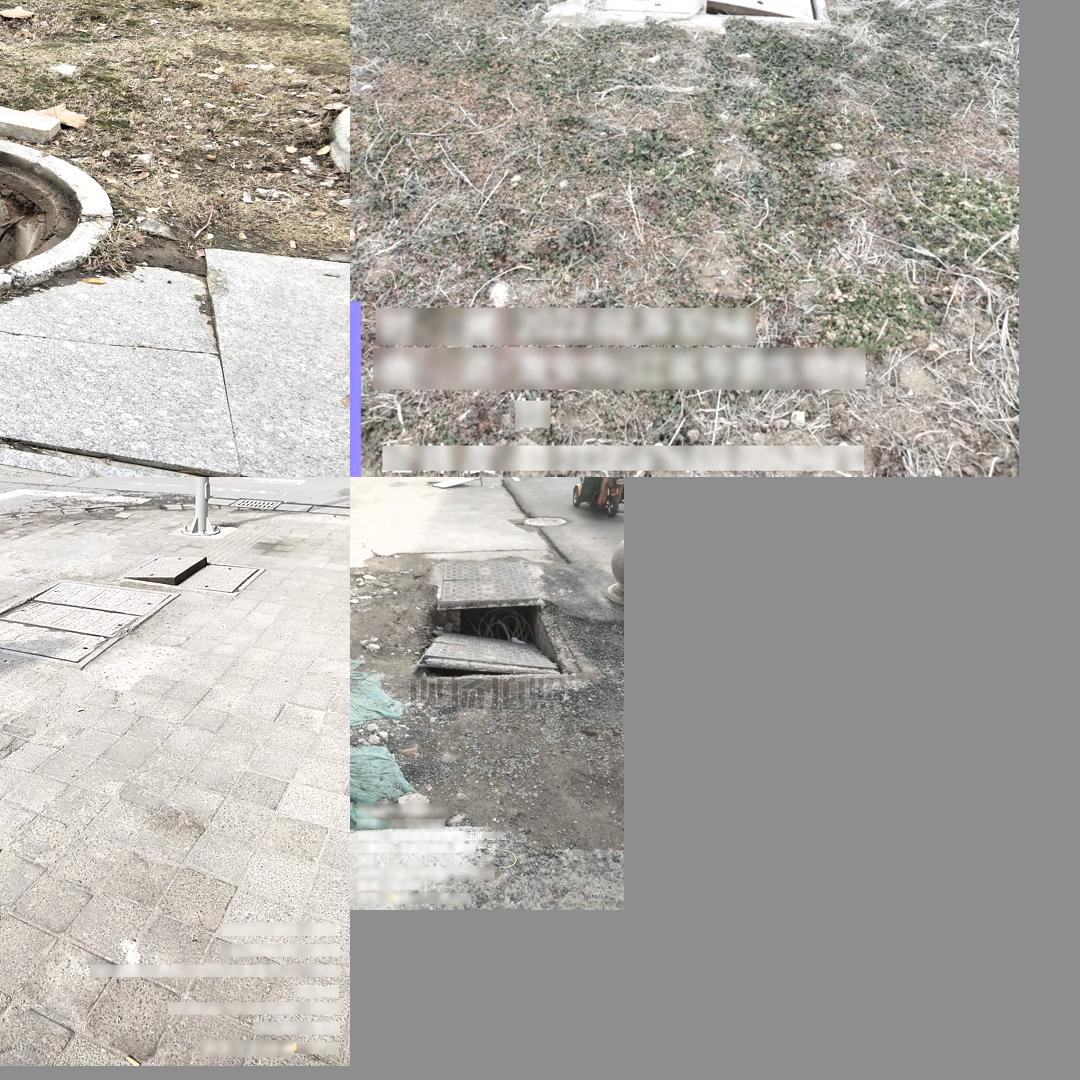good: (0, 580, 182, 668)
uncovered: (0, 130, 113, 392), (415, 557, 581, 680), (584, 0, 829, 29), (118, 556, 266, 598)
